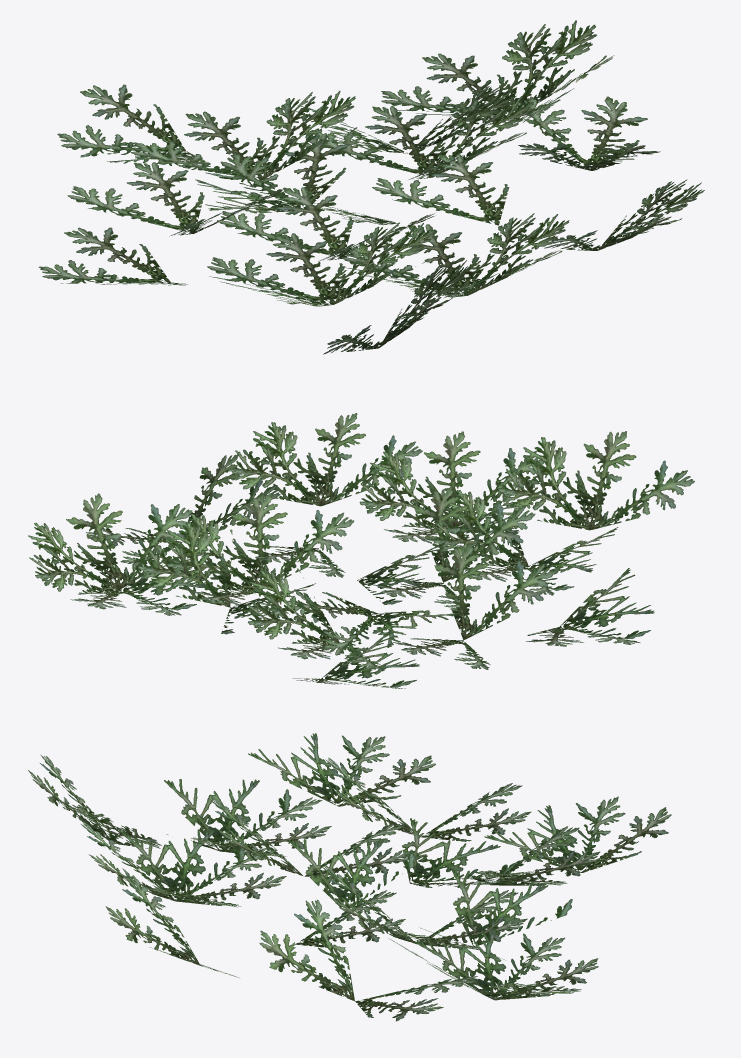
The model's file is ptch_groundleafs_lg_l1.fbx.
The picture shows the model from 3 angles, top to bottom: view 1: azimuth 30°, elevation 25°; view 2: azimuth 150°, elevation 25°; view 3: azimuth 270°, elevation 25°; orthographic projection. The views are drawn at different scales.
Parts seen in each view (by area): view 1: mesh_node; view 2: mesh_node; view 3: mesh_node.
Part boxes in pixels (x1=…): mesh_node: x1=38, y1=20, x2=704, y2=354; mesh_node: x1=28, y1=413, x2=694, y2=688; mesh_node: x1=28, y1=733, x2=671, y2=1021.
Size of the model in its own units: 1.87 by 0.2597 by 1.74.
